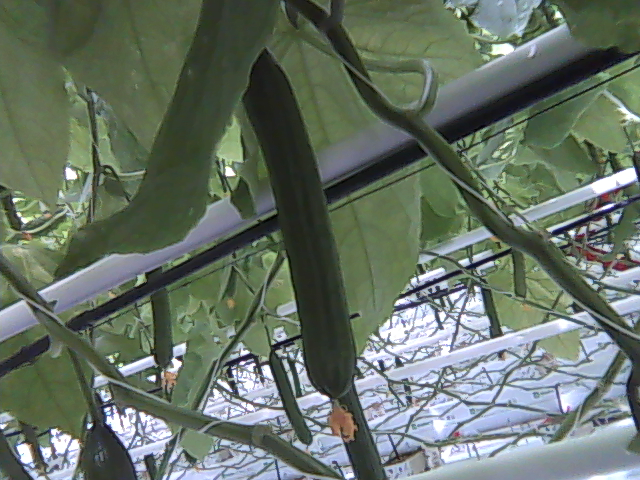concombre: (241, 47, 362, 445), (78, 417, 141, 480)
